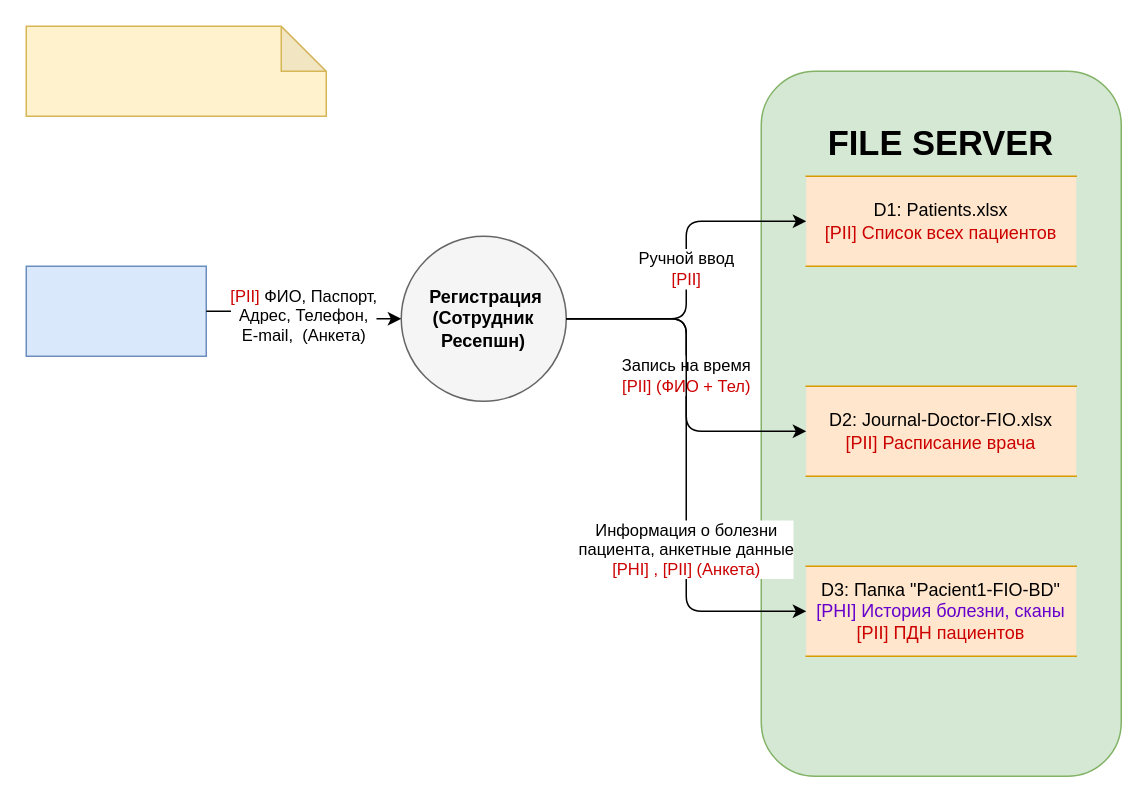
This 1148x803 diagram has some shape labels left out. The shapes that lost their labels are listed below. From the top down, each one's centre as x and y in pixels, then its label:
At point 175,70: "Легенда: [PII] - Персональные данные [PHI] - Медданные пациента".
At point 115,310: "Пациент".
